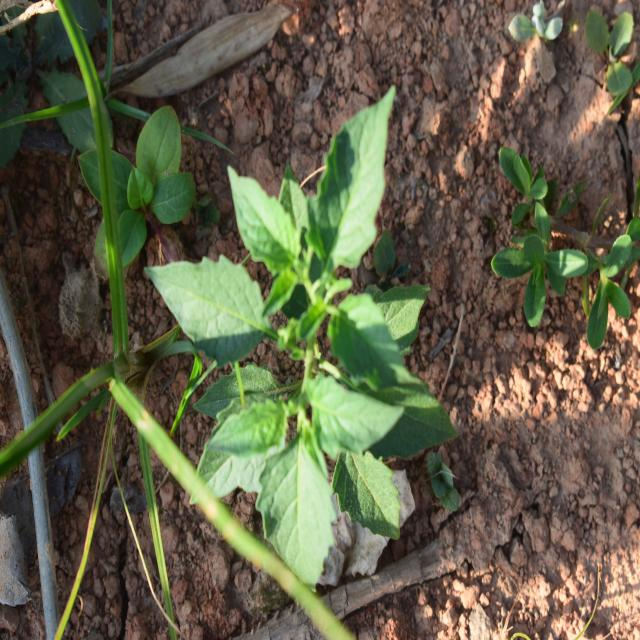Black_nightshade: (175, 122, 422, 537)
